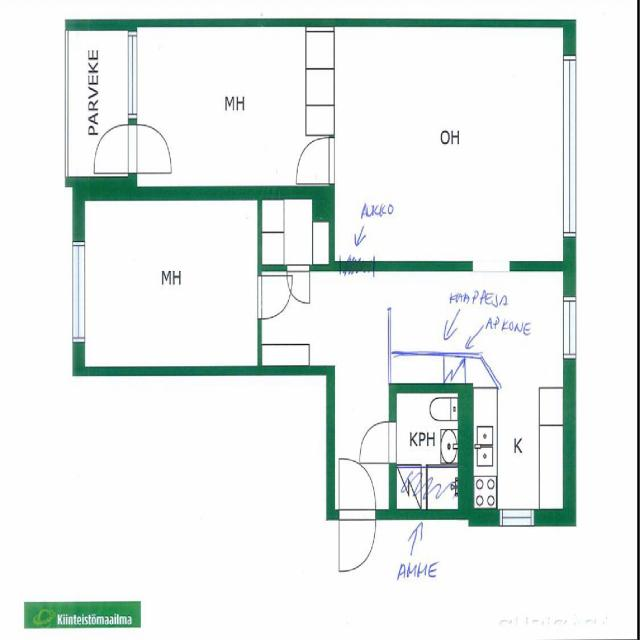door: (472, 208, 510, 270), (339, 457, 375, 520), (339, 509, 375, 571), (128, 124, 171, 173), (94, 124, 136, 173), (297, 138, 334, 184), (359, 422, 396, 463), (258, 276, 292, 318), (286, 265, 310, 303), (389, 274, 414, 306)
